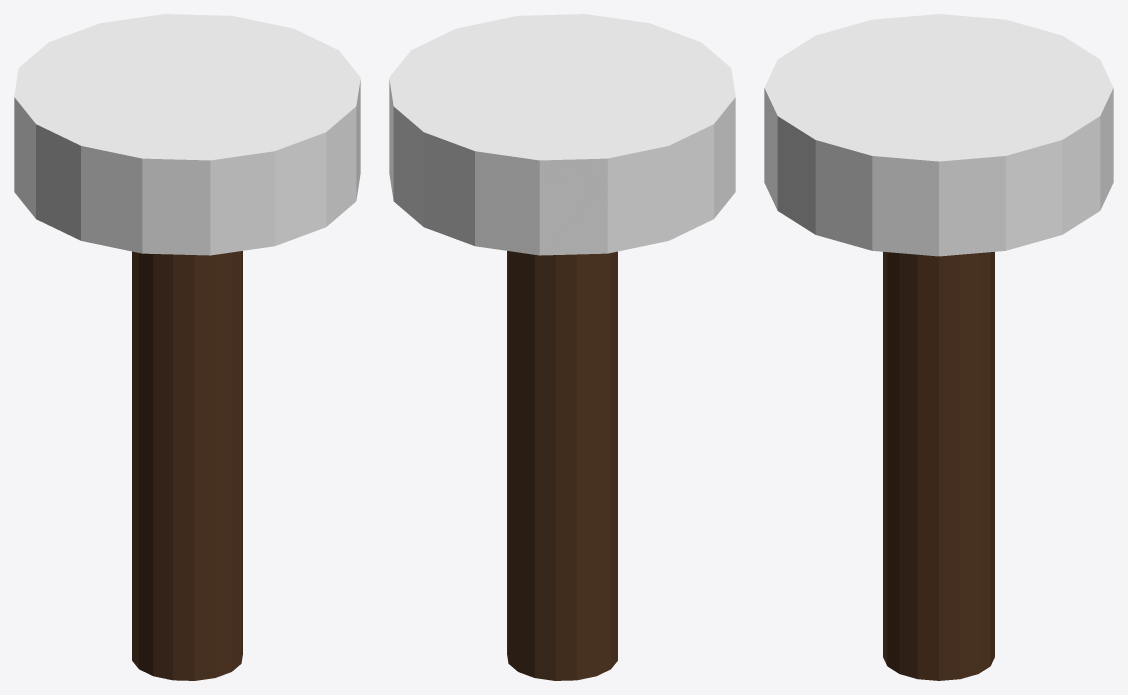
File: lavabo.glb
3 renders of one model, left to right at view 1: azimuth 30°, elevation 25°; view 2: azimuth 150°, elevation 25°; view 3: azimuth 270°, elevation 25°, orthographic.
Visible parts, largest first — view 1: lavabo; view 2: lavabo; view 3: lavabo.
Boxes of the visible parts, x1,y1,x2,y2 form: lavabo: (14, 14, 360, 680); lavabo: (389, 14, 735, 680); lavabo: (764, 14, 1113, 680).
Size of the model in its own units: 0.5 by 0.9 by 0.5.
